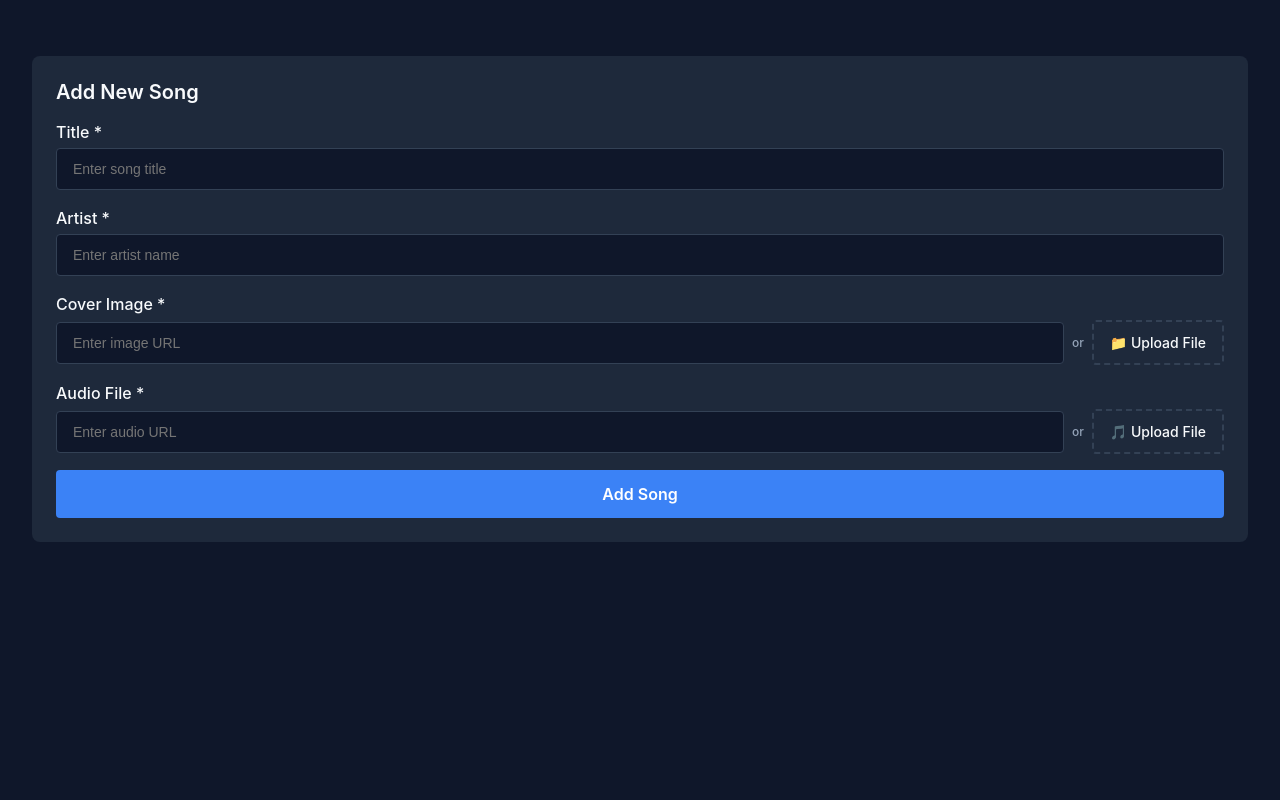
it: AddSongForm Component › Success Message › should show success message after submission
In the field labelled "Title *": (640, 169) [56,148,1224,190], type "Test Song"
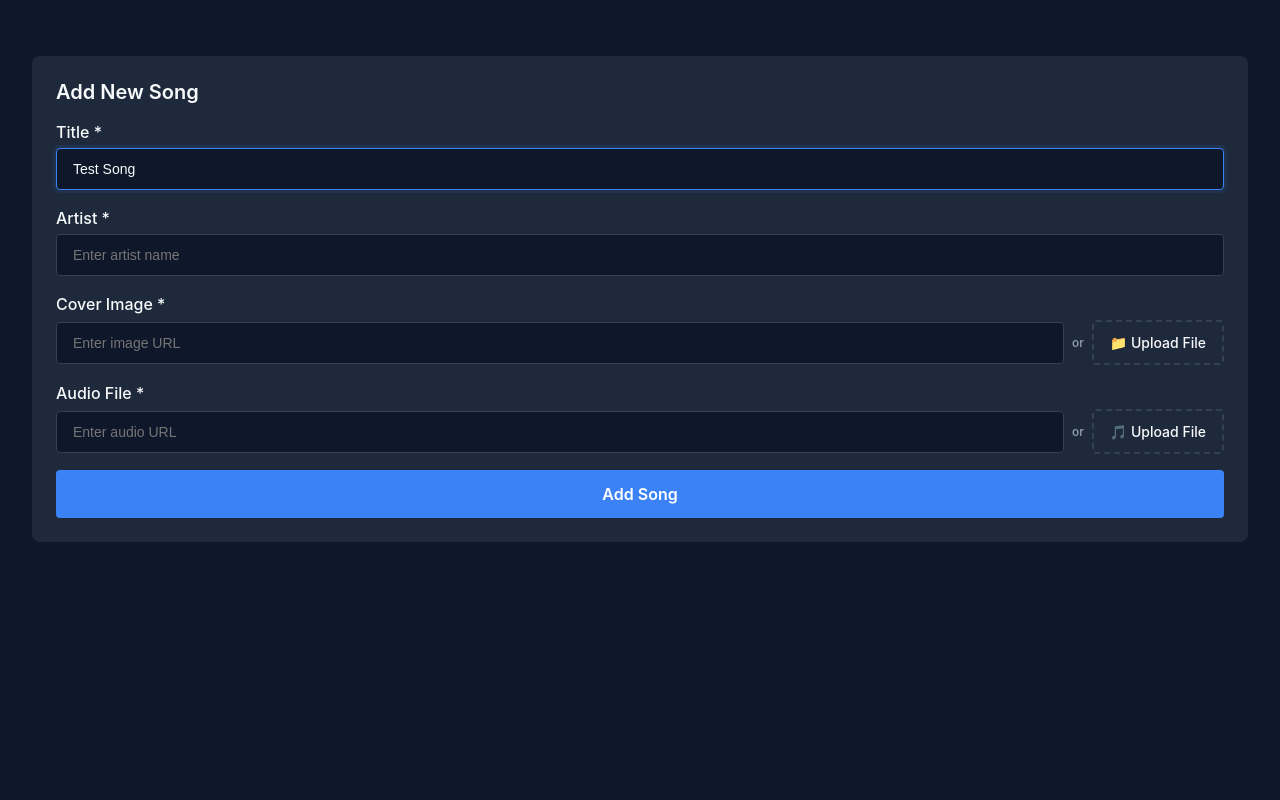
In the field labelled "Artist *": (640, 255) [56,234,1224,276], type "Test Artist"
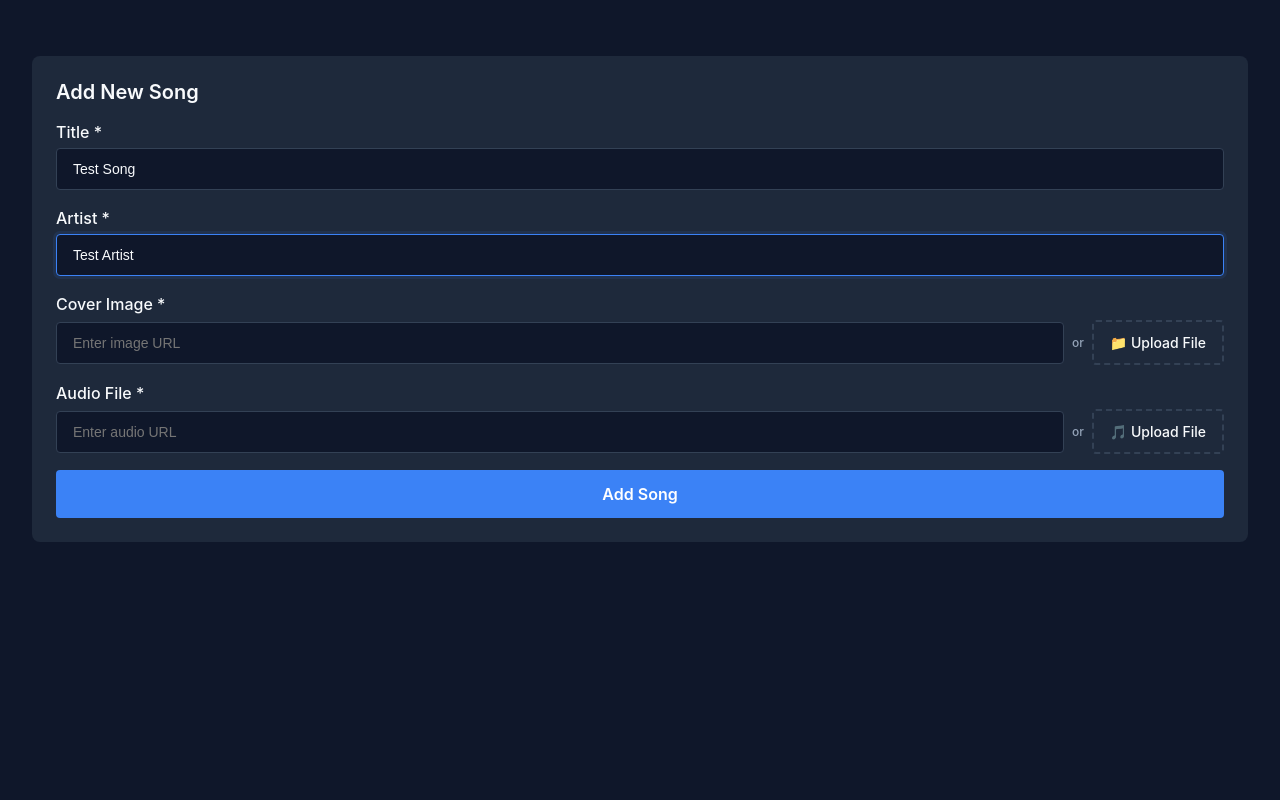
In the field labelled "Cover Image *": (560, 342) [56,322,1064,364], type "/covers/test.jpg"
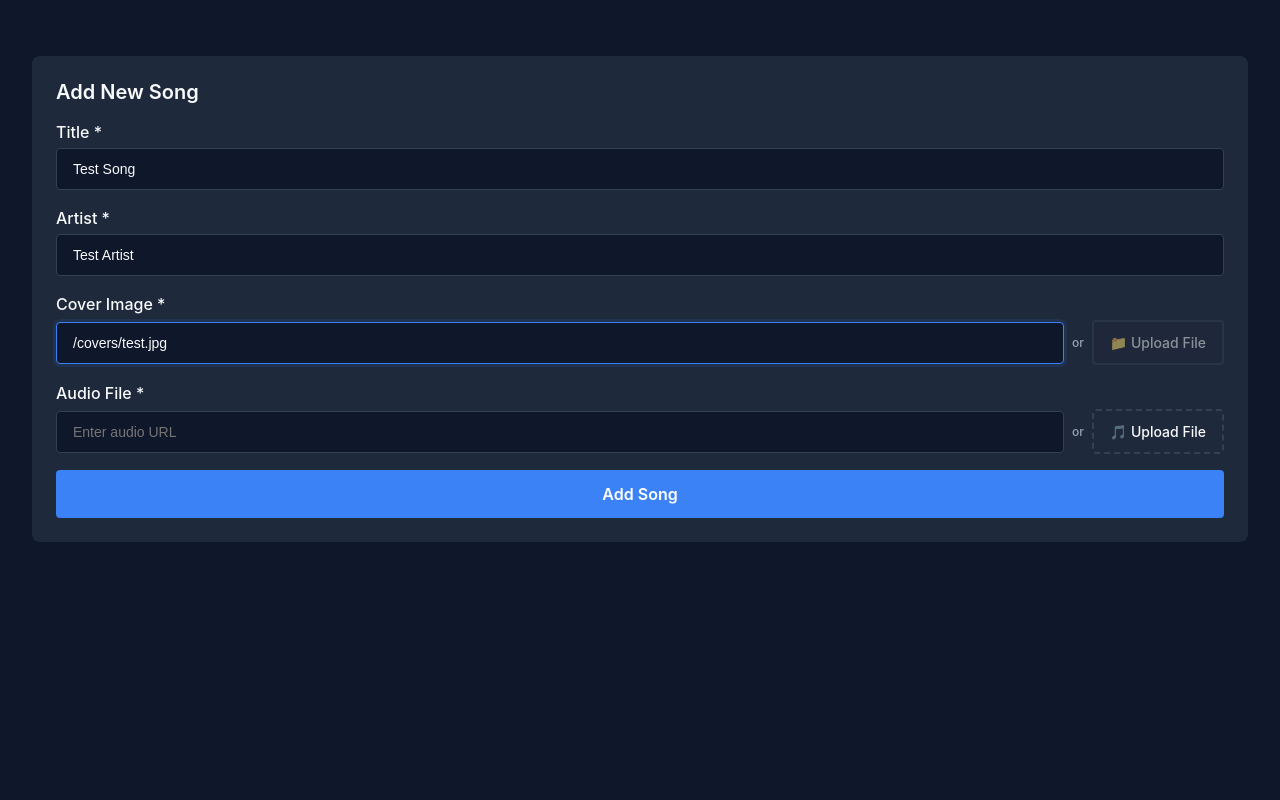
In the field labelled "Audio File *": (560, 432) [56,410,1064,452], type "/songs/test.mp3"
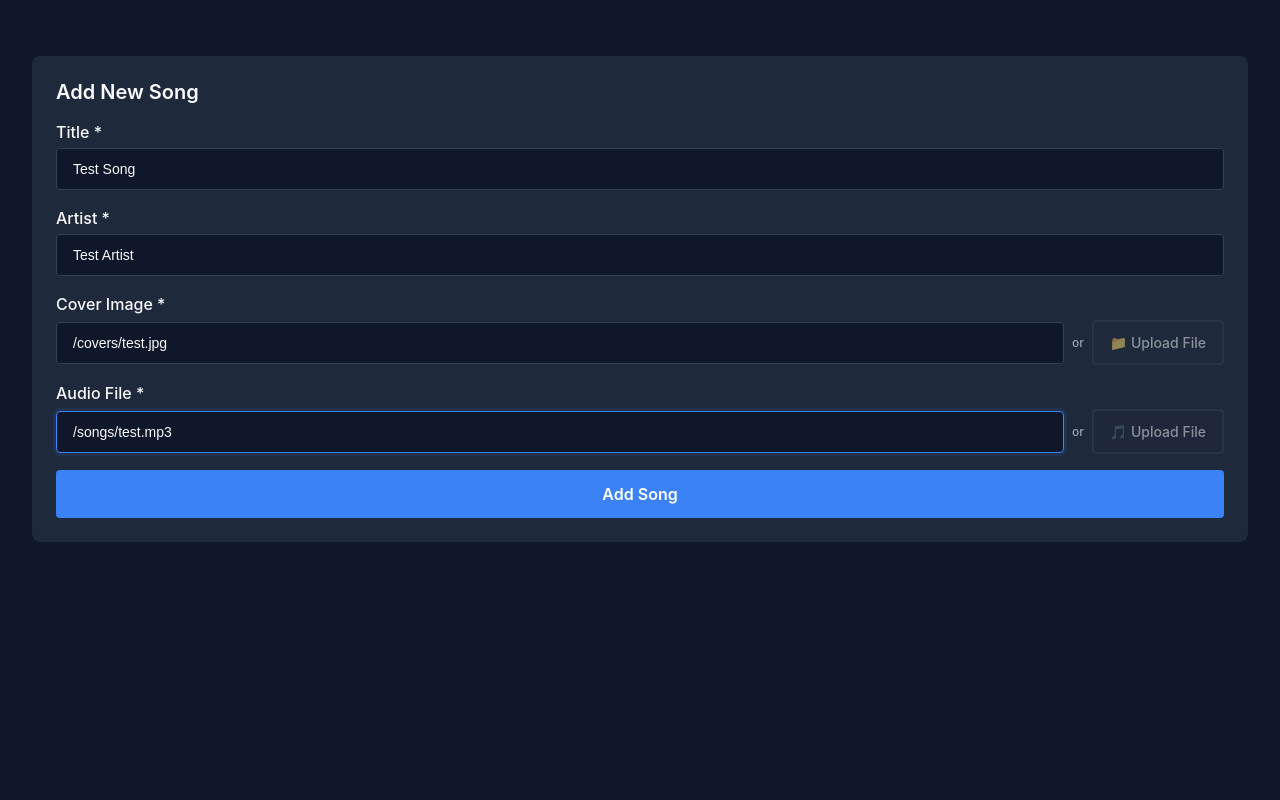
Click the button "Add Song": (640, 494) [56,470,1224,518]
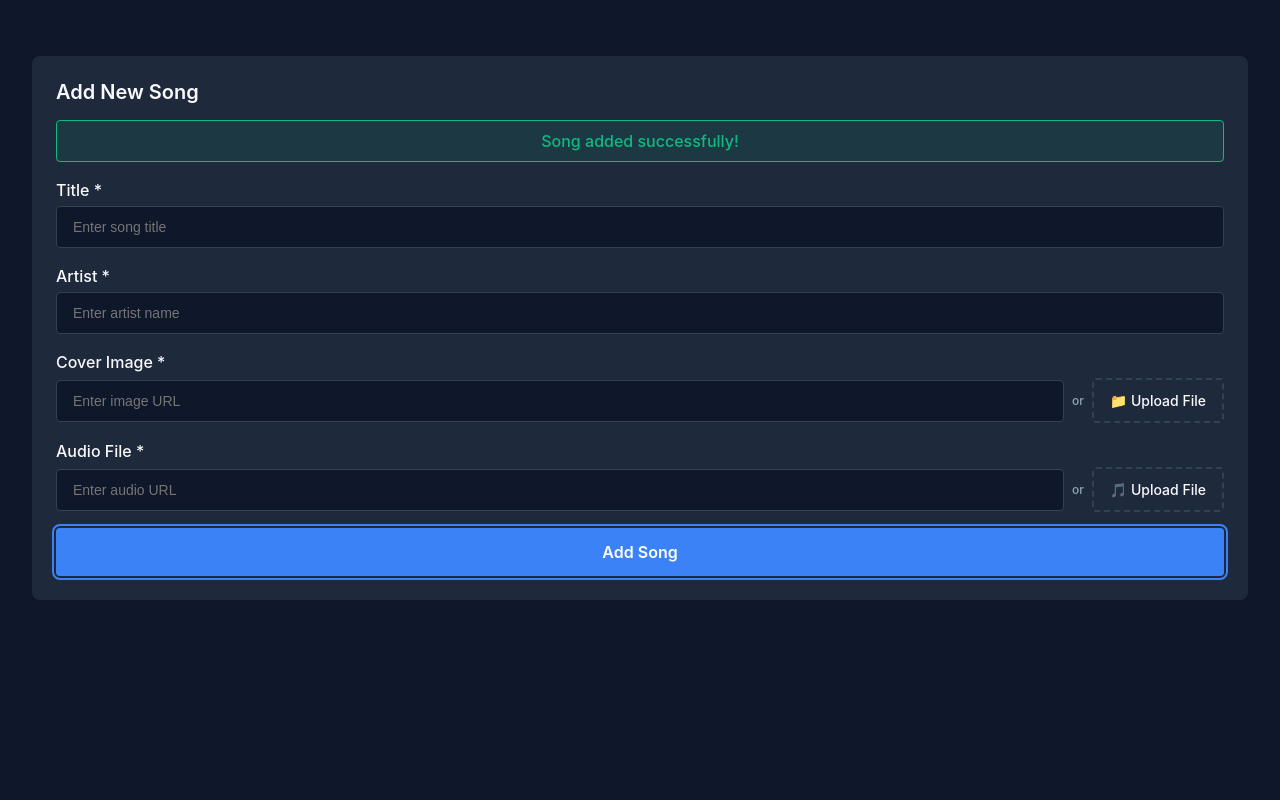
Result: the text "Song added successfully!" is shown at [56,120,1224,162]
